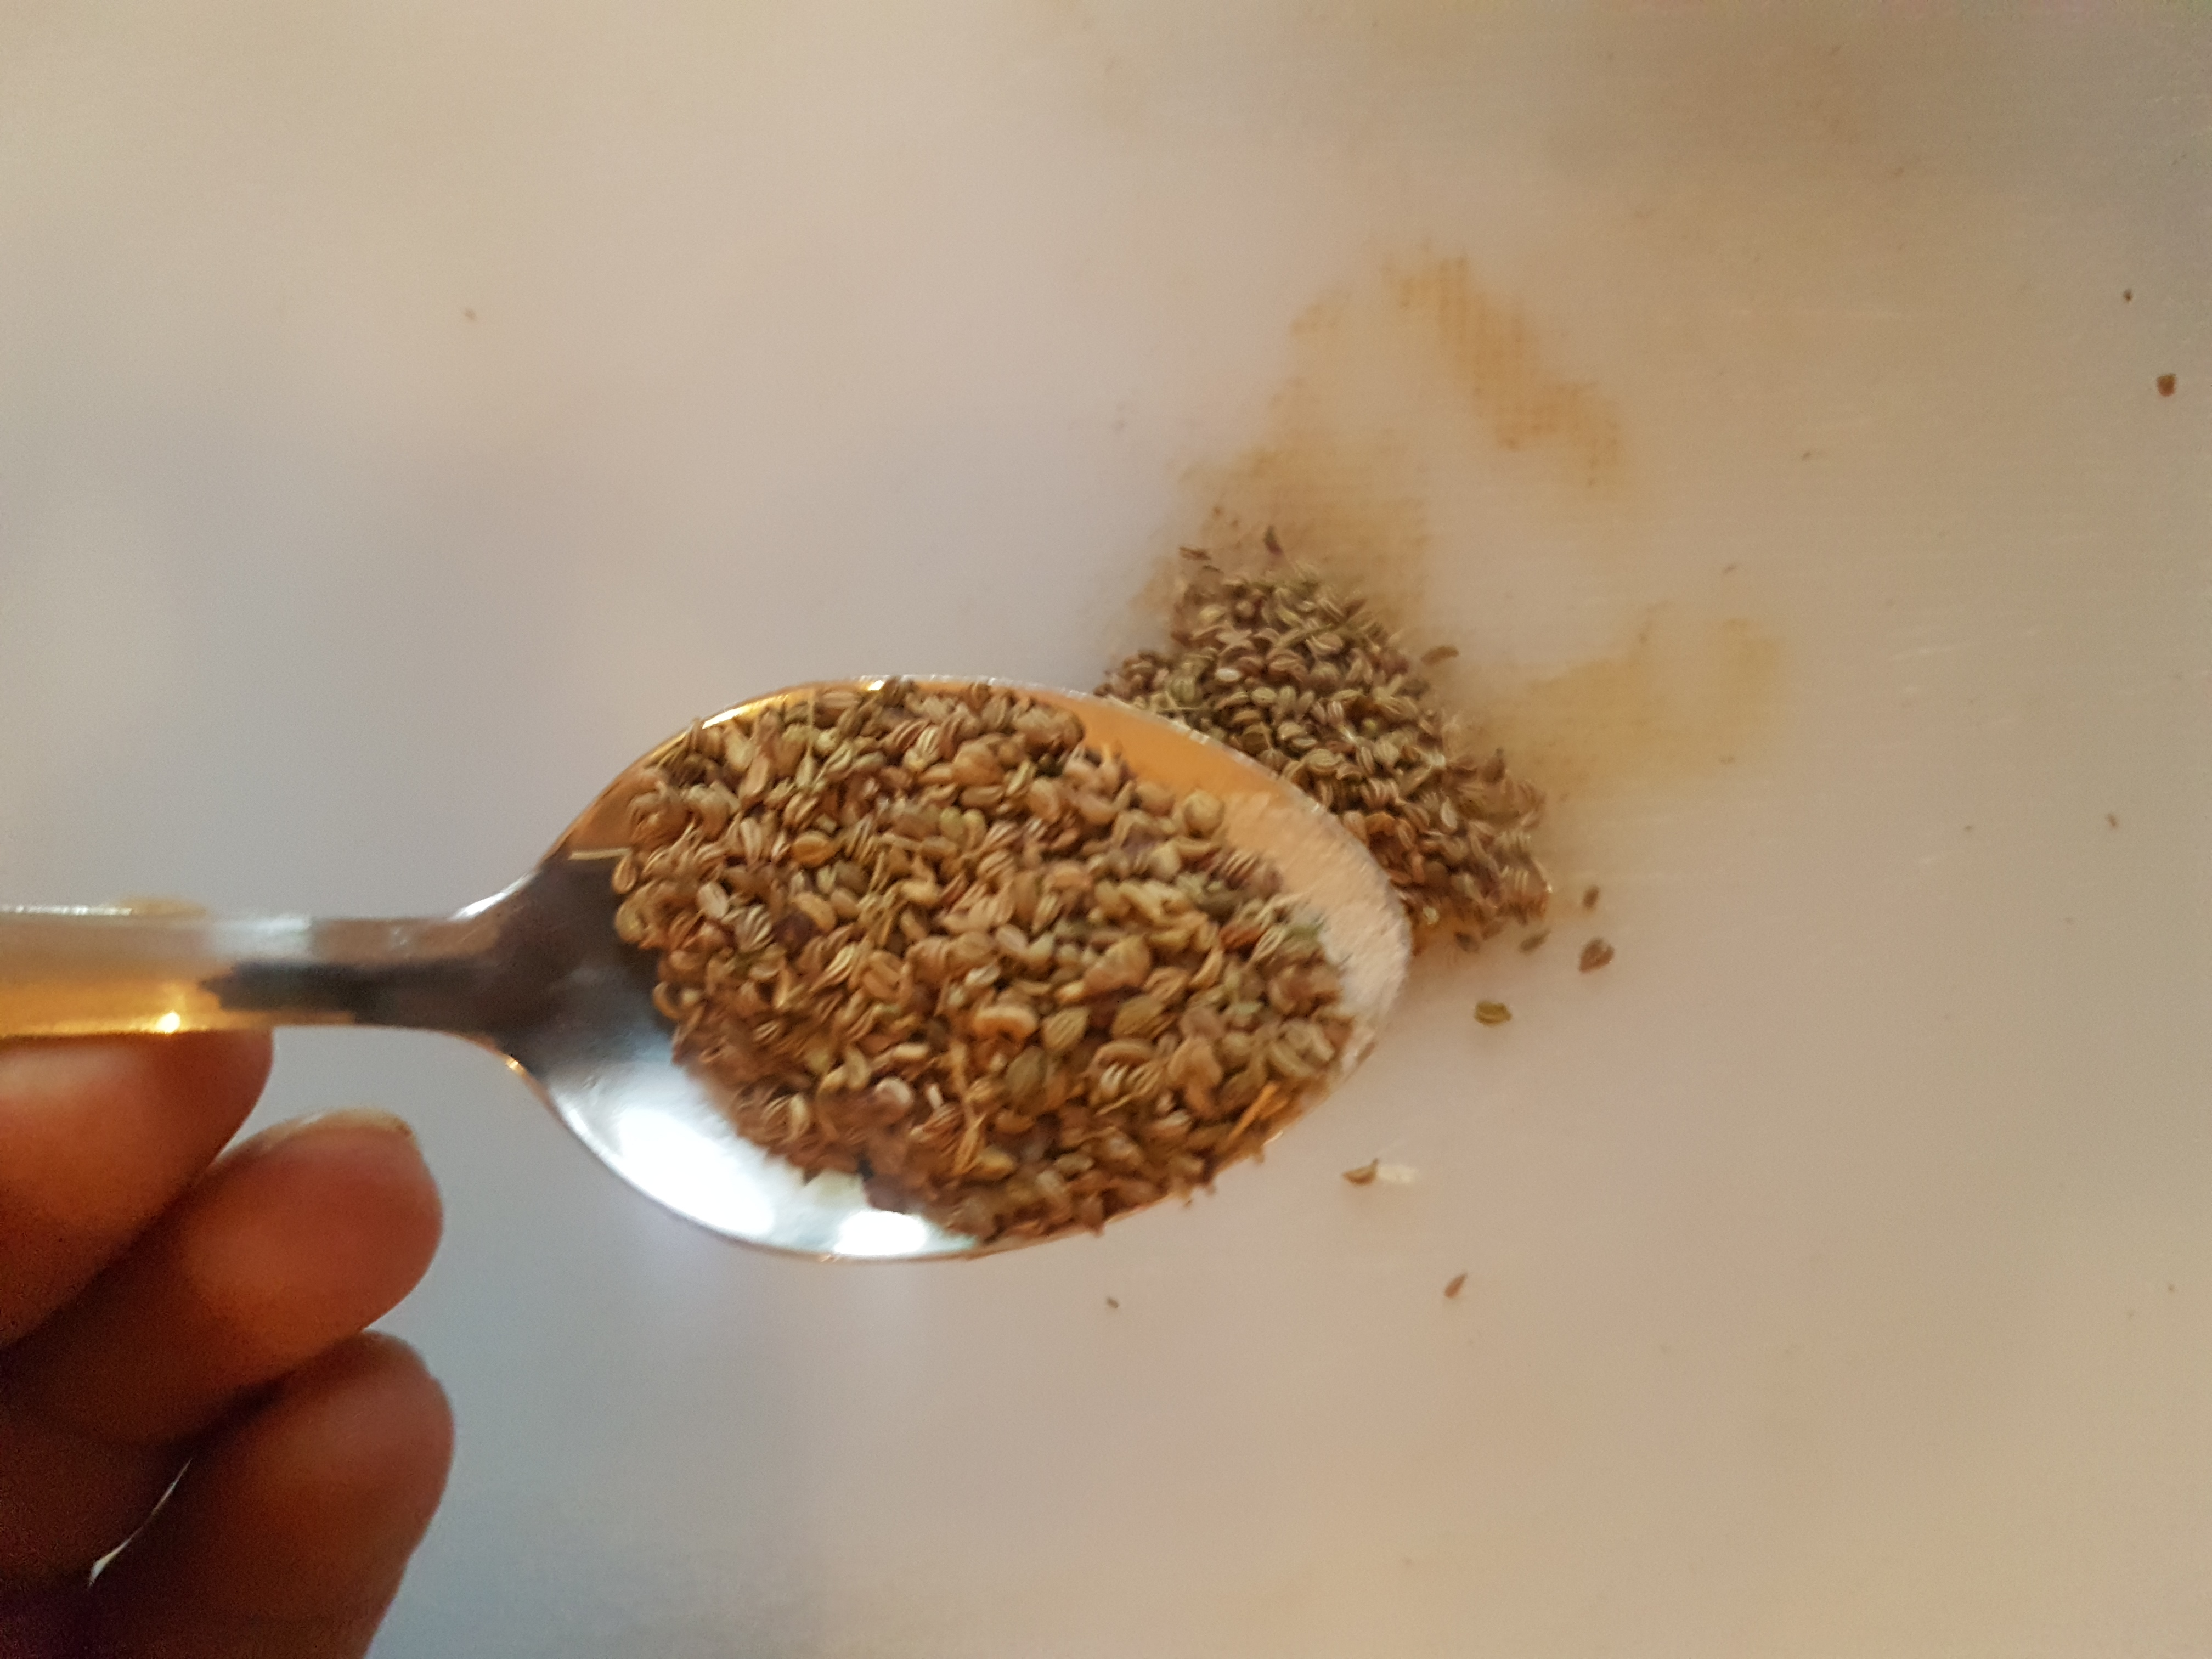Ajwain: (606, 701, 1355, 1253), (1136, 537, 1724, 1117)
